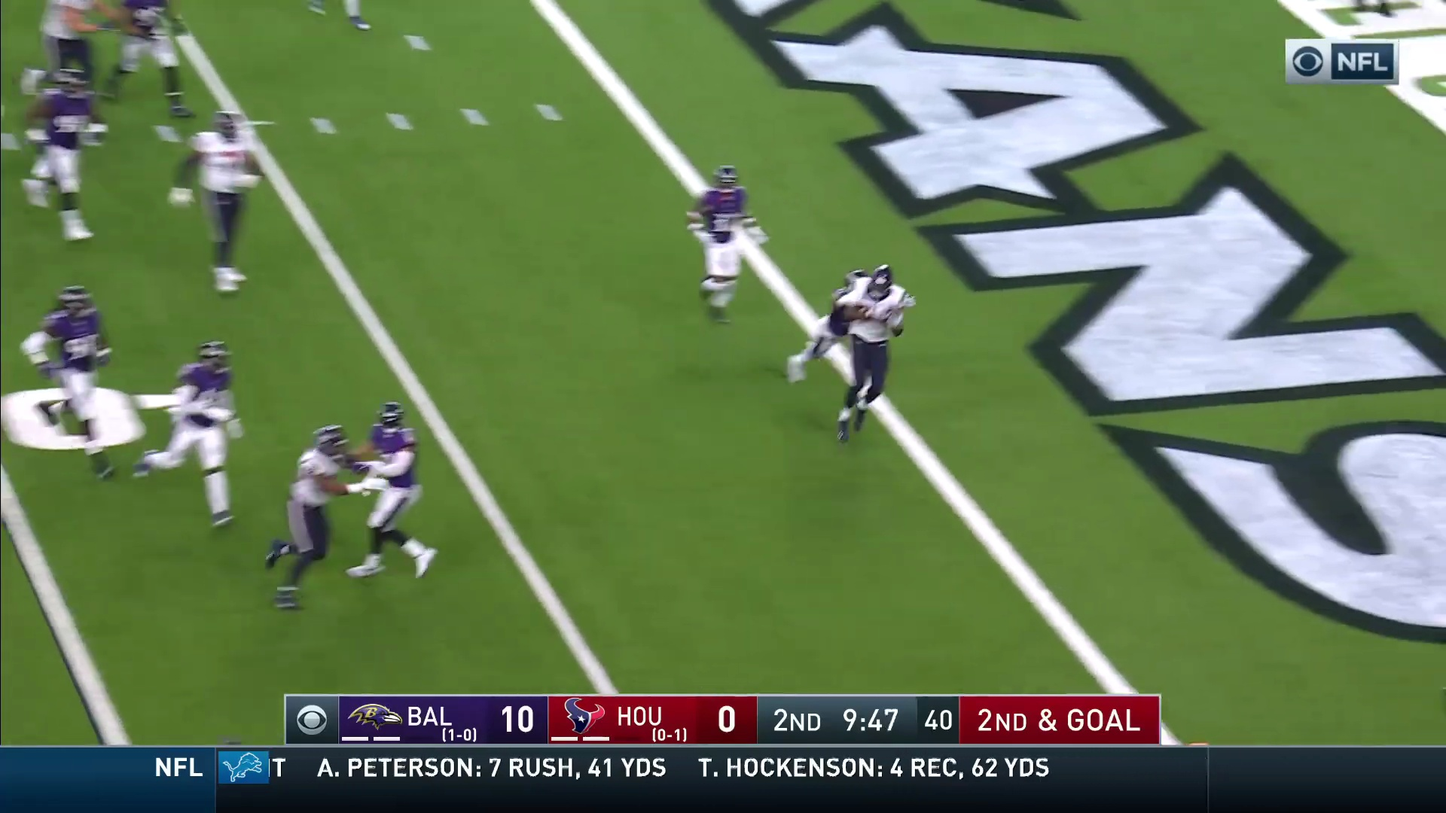Player: (267, 423, 351, 609), (159, 340, 241, 526), (828, 266, 911, 441), (352, 401, 433, 575), (190, 109, 260, 291), (687, 166, 757, 322), (32, 286, 104, 436), (27, 79, 93, 239), (120, 3, 186, 109), (41, 1, 96, 81)
